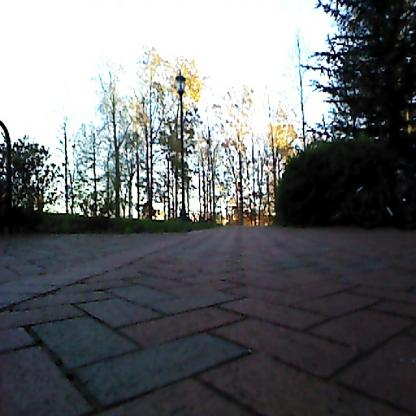Edge: (1, 219, 190, 261)
Sidewalk: (0, 226, 416, 416)
